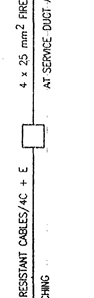Cable Termination Box: (3, 103, 76, 168)
